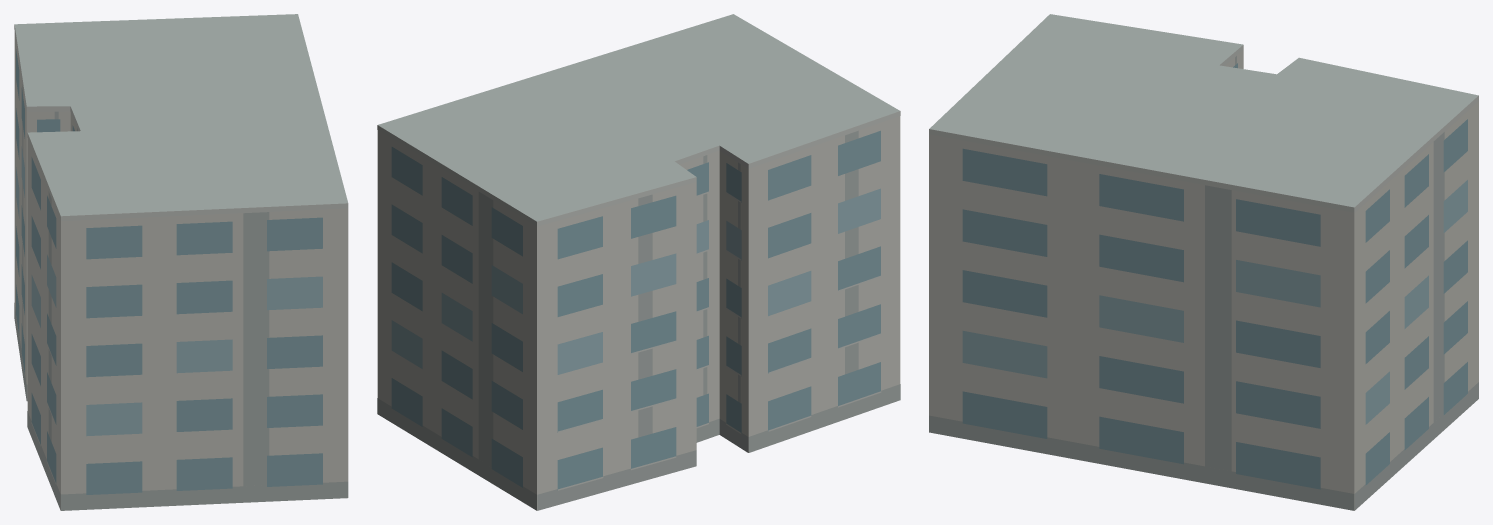
File: survey-upis-32682600.glb
3 views of the same model, side by side, from view 1: azimuth 30°, elevation 25°; view 2: azimuth 150°, elevation 25°; view 3: azimuth 270°, elevation 25° (orthographic). The views are drawn at different scales.
Parts seen in each view (by area): view 1: survey-upis-32682600.tmp; view 2: survey-upis-32682600.tmp; view 3: survey-upis-32682600.tmp.
Boxes of the visible parts, x1=… form: survey-upis-32682600.tmp: x1=14, y1=14, x2=348, y2=510; survey-upis-32682600.tmp: x1=377, y1=14, x2=900, y2=510; survey-upis-32682600.tmp: x1=929, y1=14, x2=1478, y2=510.
Bounding box in the file's own units: 19.02 × 13.9 × 22.83.
